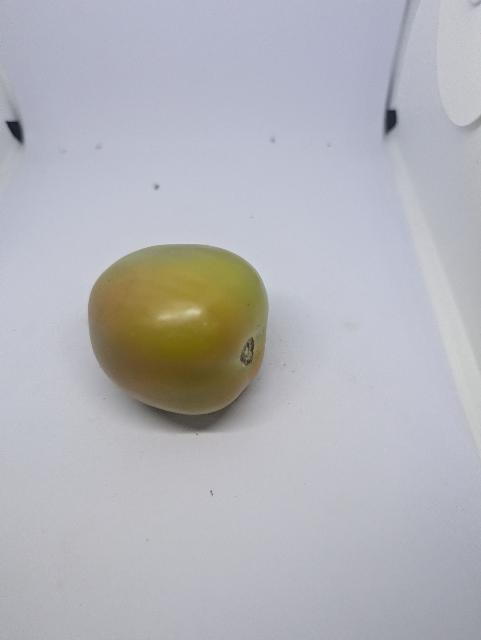breaker: (85, 241, 273, 419)
